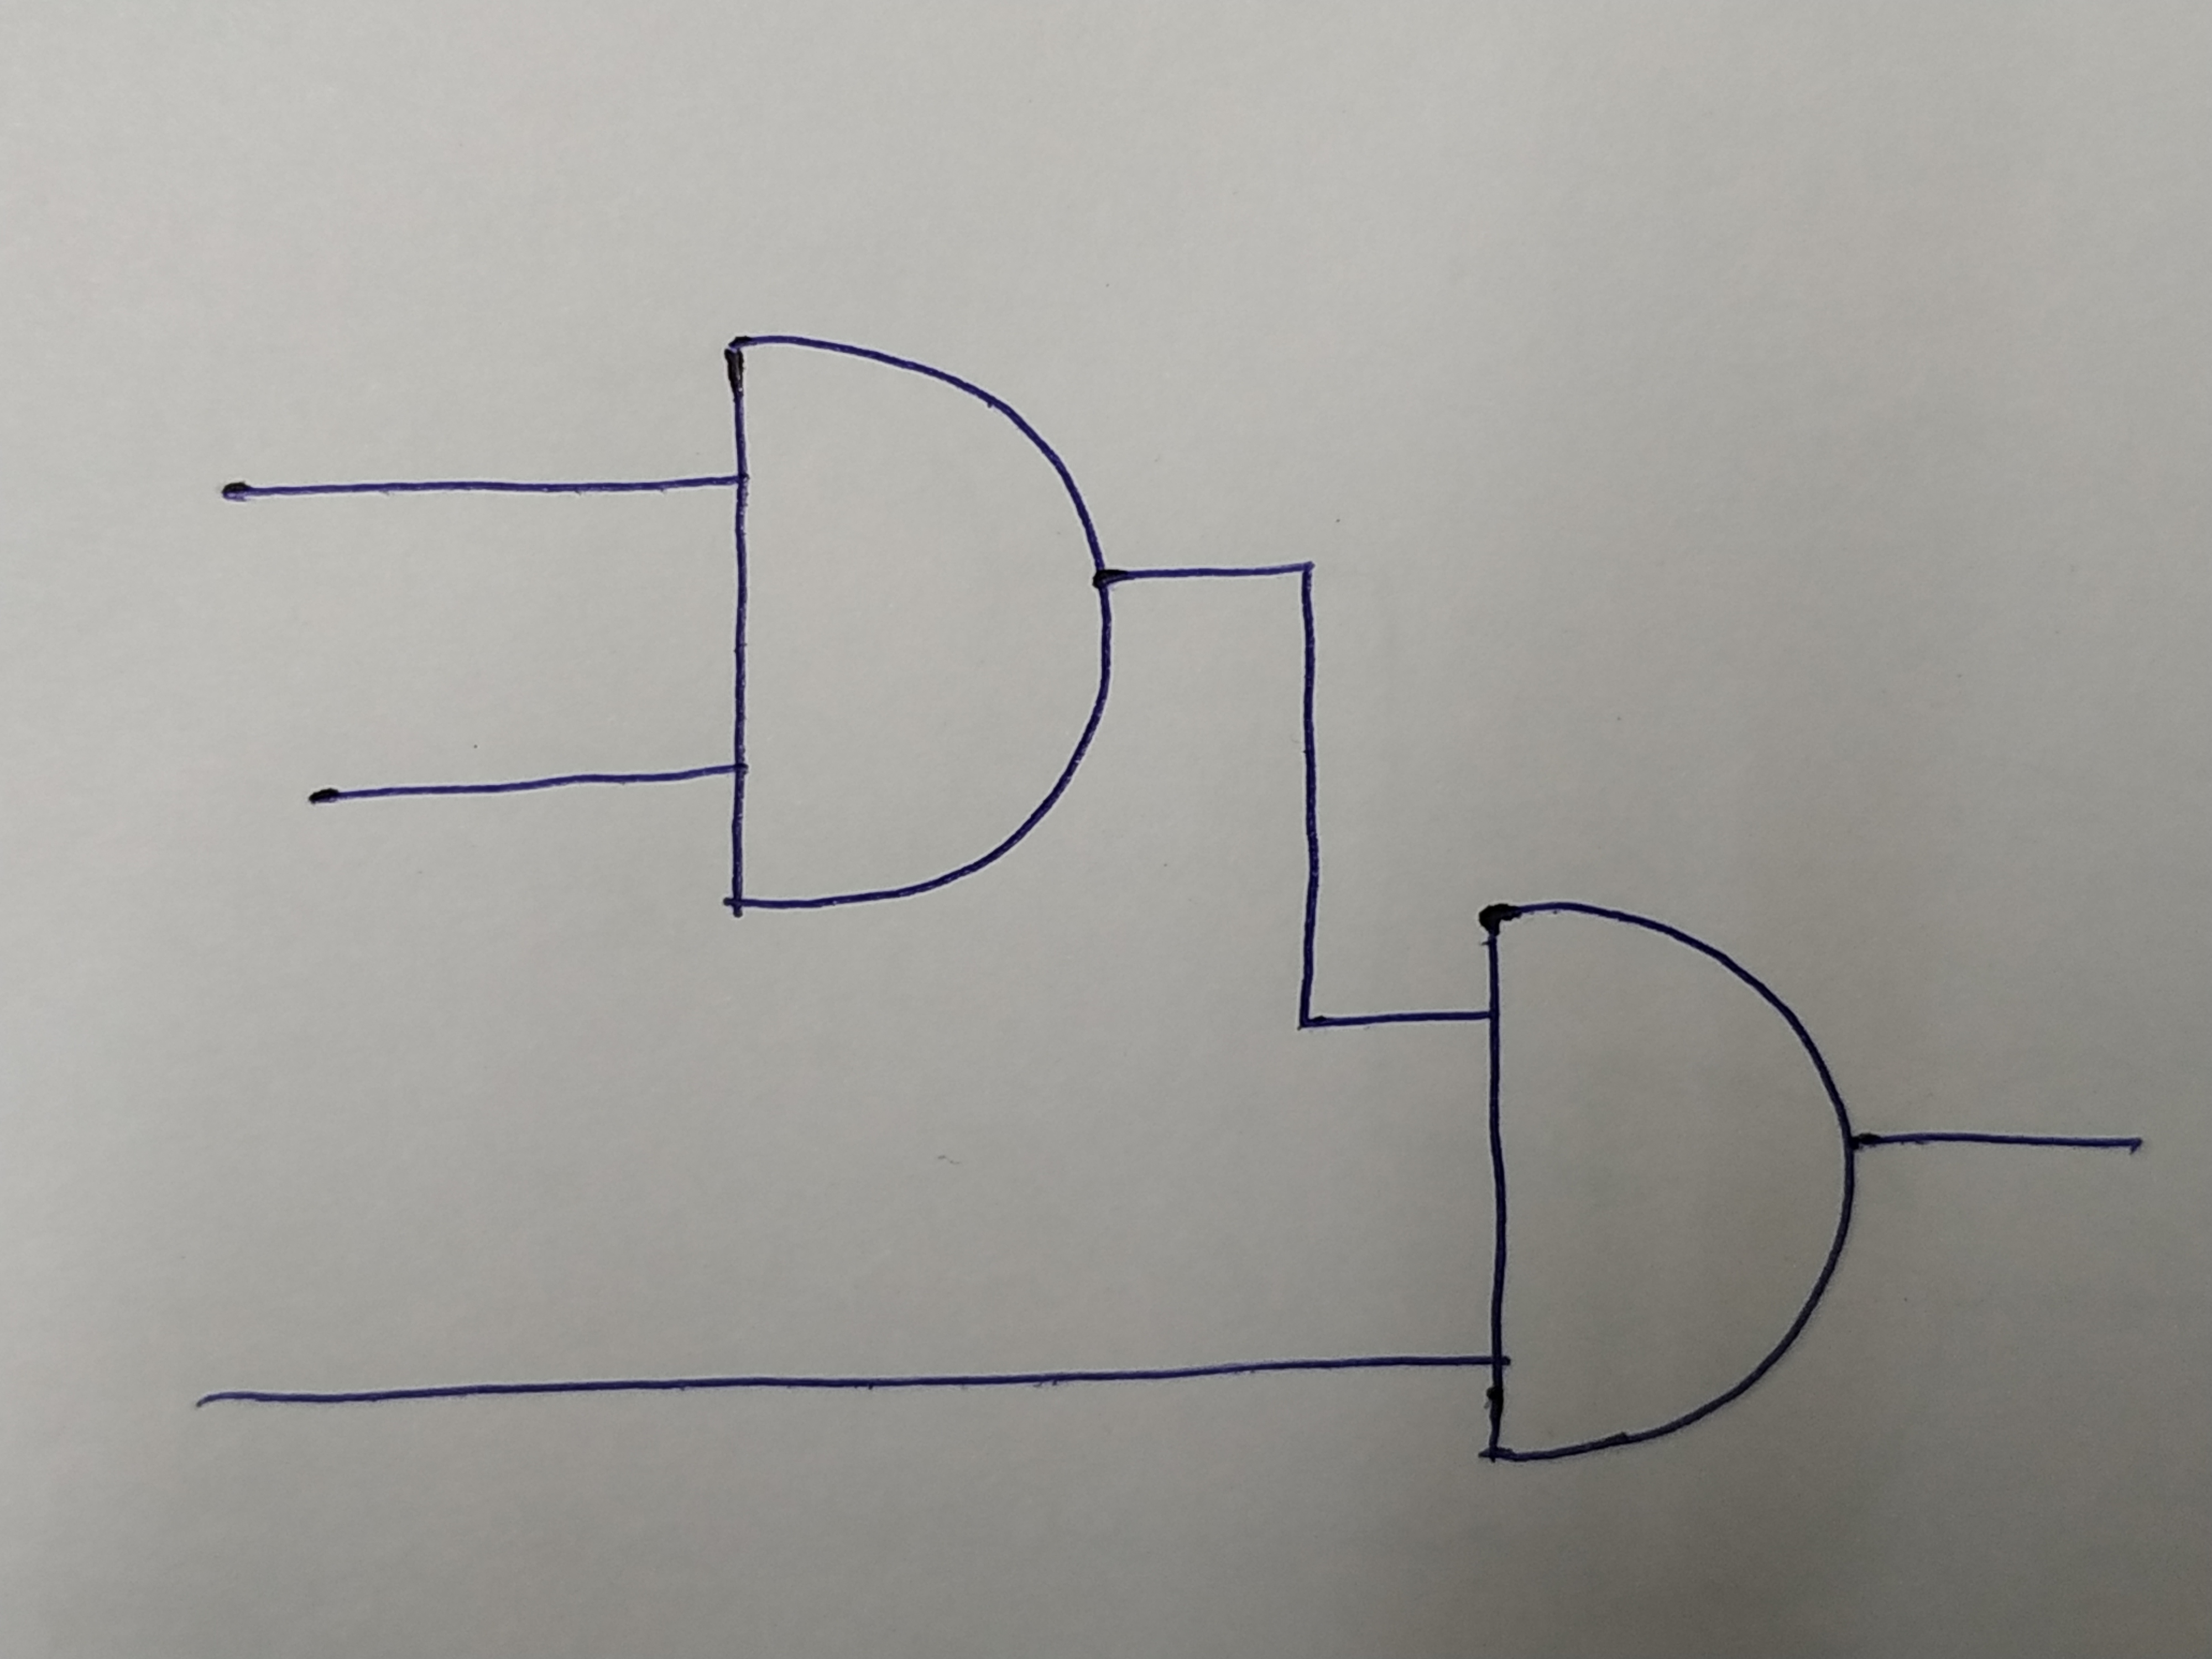and: (723, 333, 1115, 911), (1477, 899, 1848, 1460)
